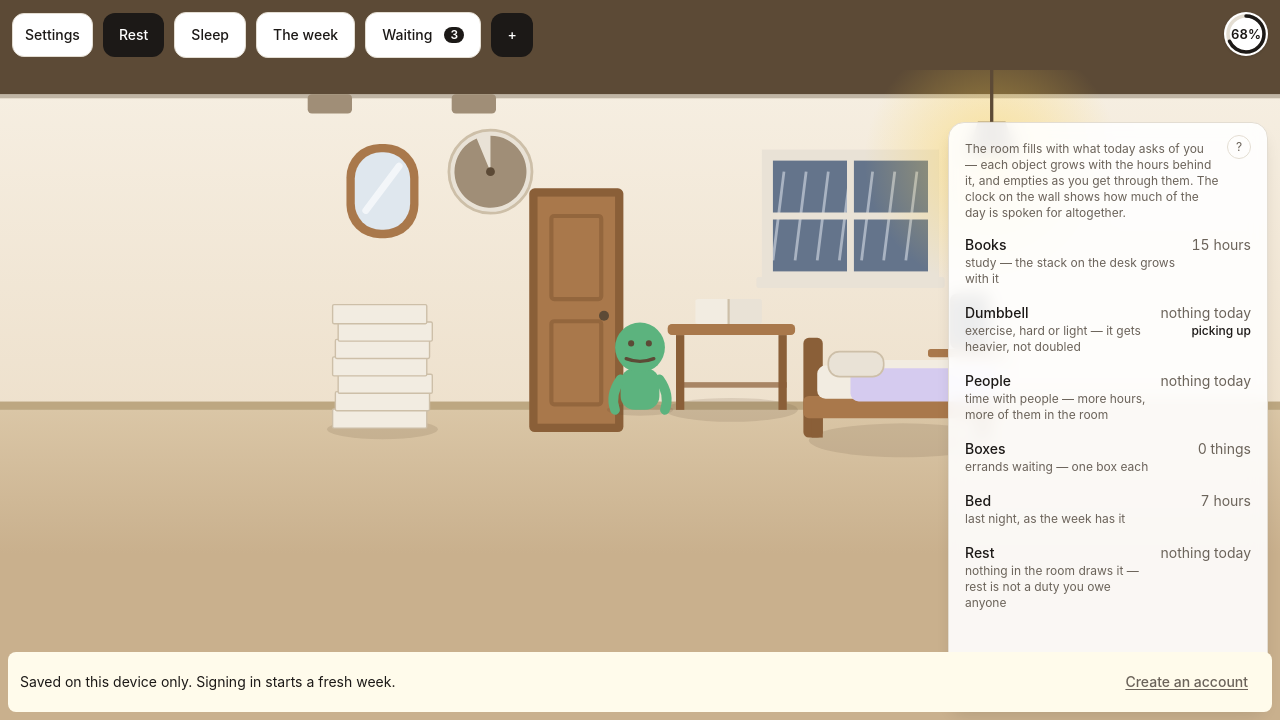
Test case: the overfull day in the waiting sheet › raises the card for a fortnight past what rearranging can fix
Click the button with test id "open-notices" at (423, 35), box [365, 12, 481, 58]
(page scrolled)
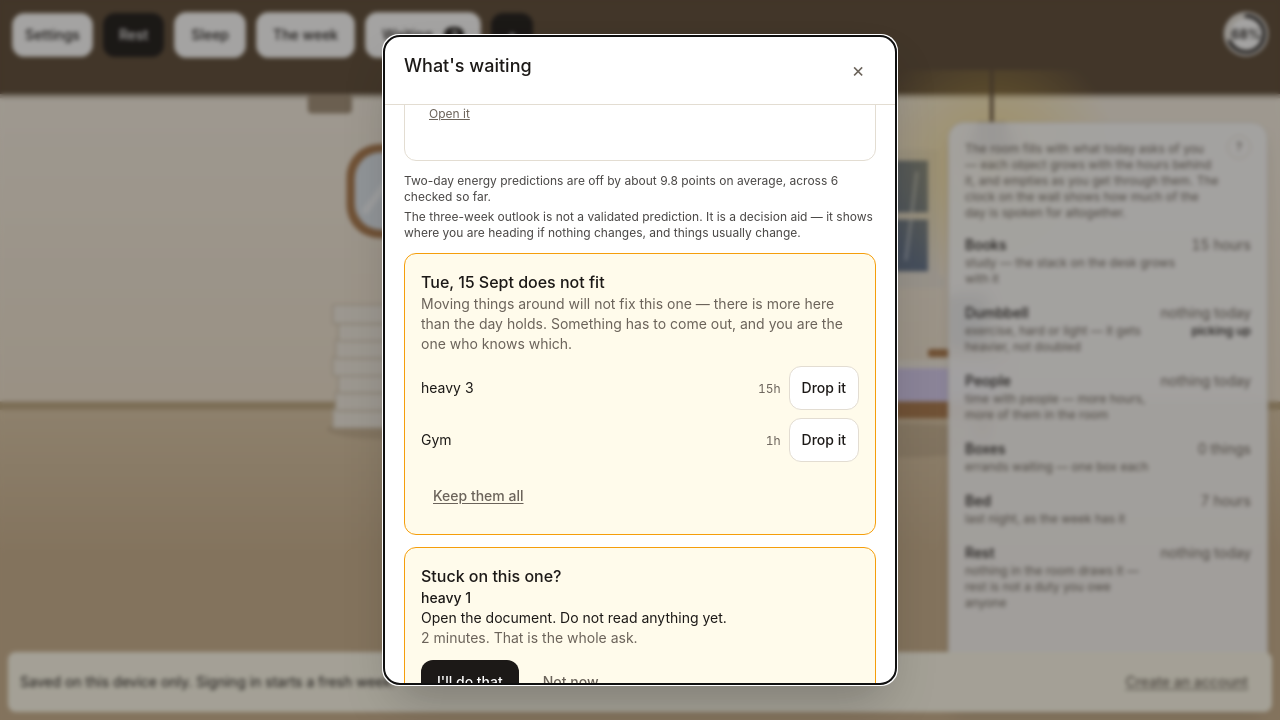
Check: the element with test id "overfull" is shown, box [404, 253, 876, 535]
